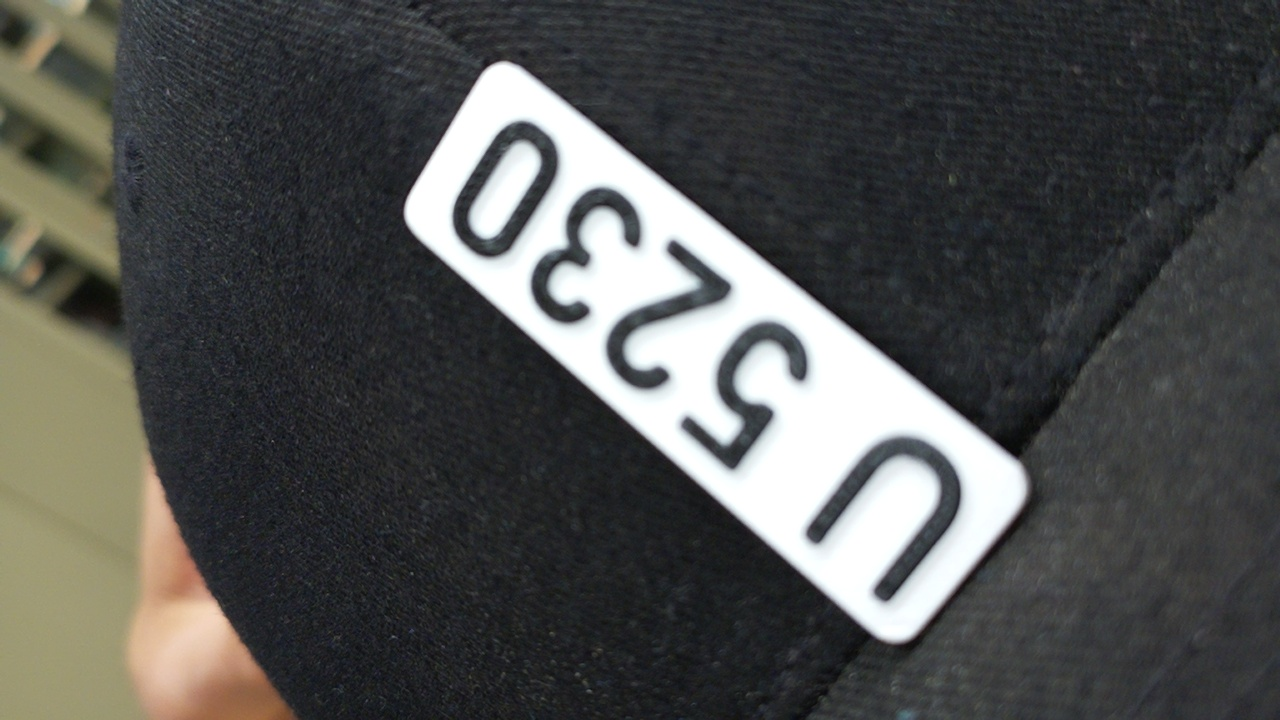license_plate: (395, 52, 1037, 652)
